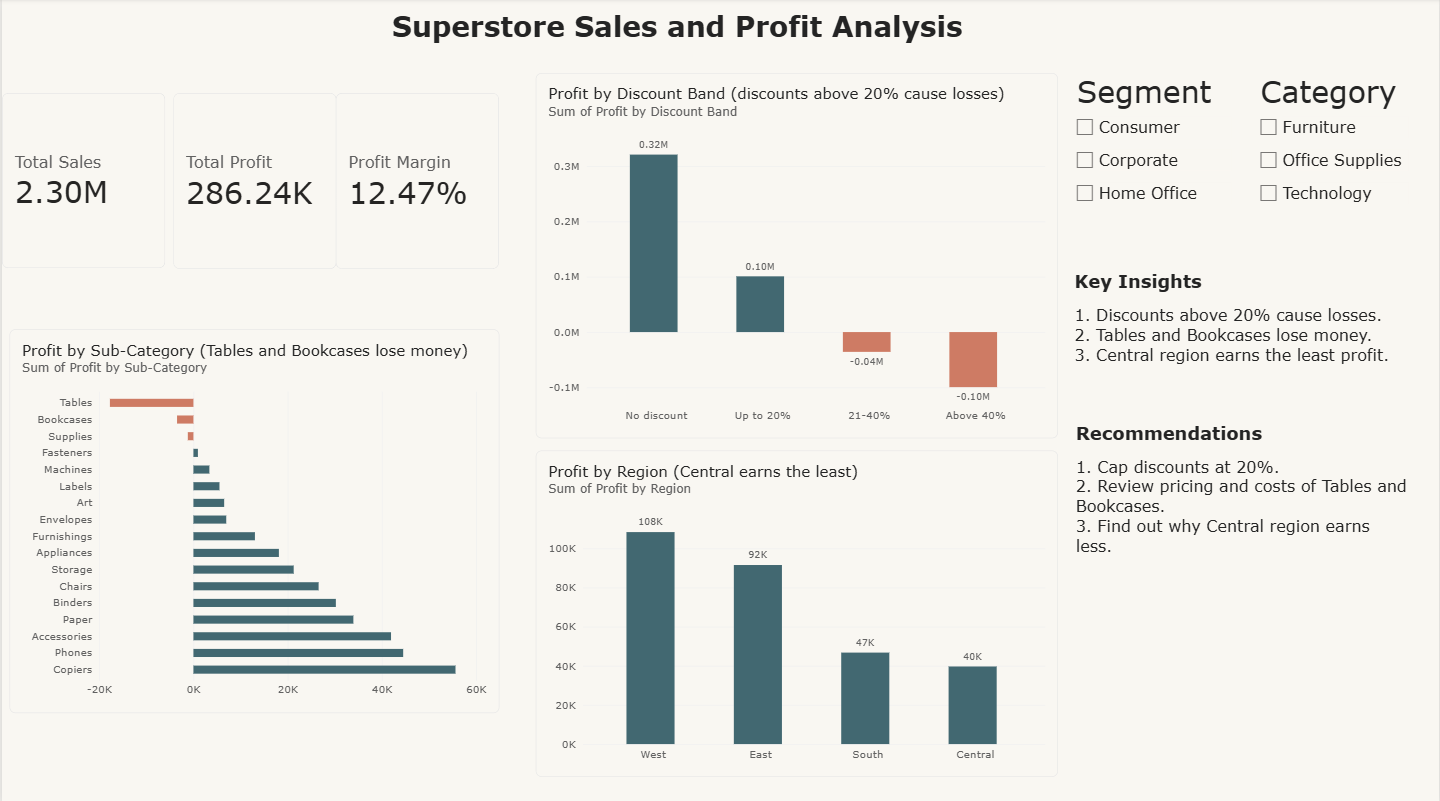

The dashboard page shown, as its layout file describes it:
{"tool":"powerbi","page":{"name":"Page 1","canvas":[1920,1080],"ordinal":0},"visuals":[{"type":"cardVisual","fields":{"Data":["Sum(SampleSuperstore.Sales)"]},"box":[0,127.6,218.2,234.6],"z":0},{"type":"cardVisual","fields":{"Data":["Sum(SampleSuperstore.Profit)"]},"box":[228.5,127.6,218,235],"z":1},{"type":"cardVisual","fields":{"Data":["SampleSuperstore.Profit Margin"]},"box":[446.7,127.6,218,235],"z":2},{"type":"clusteredBarChart","title":"Profit by Sub-Category (Tables and Bookcases lose money)","fields":{"Category":["SampleSuperstore.Sub-Category"],"Y":["Sum(SampleSuperstore.Profit)"]},"box":[10.3,442.5,654.5,512.5],"z":3},{"type":"clusteredColumnChart","title":"Profit by Discount Band (discounts above 20% cause losses)","fields":{"Category":["SampleSuperstore.Discount Brand"],"Y":["Sum(SampleSuperstore.Profit)"]},"box":[712.2,100.9,697.8,487.8],"z":4},{"type":"clusteredColumnChart","title":"Profit by Region (Central earns the least)","fields":{"Category":["SampleSuperstore.Region"],"Y":["Sum(SampleSuperstore.Profit)"]},"box":[712.2,605.1,697.8,436.4],"z":5},{"type":"slicer","fields":{"Values":["SampleSuperstore.Segment"]},"box":[1428.5,100.9,214.1,205.8],"z":6},{"type":"slicer","fields":{"Values":["SampleSuperstore.Category"]},"box":[1673.4,100.9,205.8,205.8],"z":7},{"type":"textbox","box":[520.8,14.4,963.3,230.5],"z":8},{"type":"textbox","box":[1432.6,364.3,446.7,201.7],"z":9},{"type":"textbox","box":[1434.7,566,446.7,218.2],"z":10}]}

Visuals, with their boxes in screenshot pixels (x1, y1, x2, y2), scaled from the page's 1920x1080 canvas onto the 1440x801 screenshot:
cardVisual - Sum(SampleSuperstore.Sales): 0, 95, 164, 269
cardVisual - Sum(SampleSuperstore.Profit): 171, 95, 335, 269
cardVisual - SampleSuperstore.Profit Margin: 335, 95, 499, 269
"Profit by Sub-Category (Tables and Bookcases lose money)" clusteredBarChart: 8, 328, 499, 708
"Profit by Discount Band (discounts above 20% cause losses)" clusteredColumnChart: 534, 75, 1058, 437
"Profit by Region (Central earns the least)" clusteredColumnChart: 534, 449, 1058, 772
slicer - SampleSuperstore.Segment: 1071, 75, 1232, 227
slicer - SampleSuperstore.Category: 1255, 75, 1409, 227
textbox: 391, 11, 1113, 182
textbox: 1074, 270, 1409, 420
textbox: 1076, 420, 1411, 582
